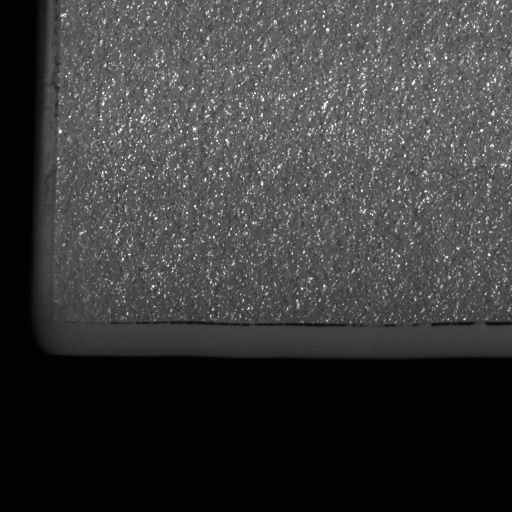jiaofeng: (118, 318, 366, 343), (421, 318, 511, 344)
